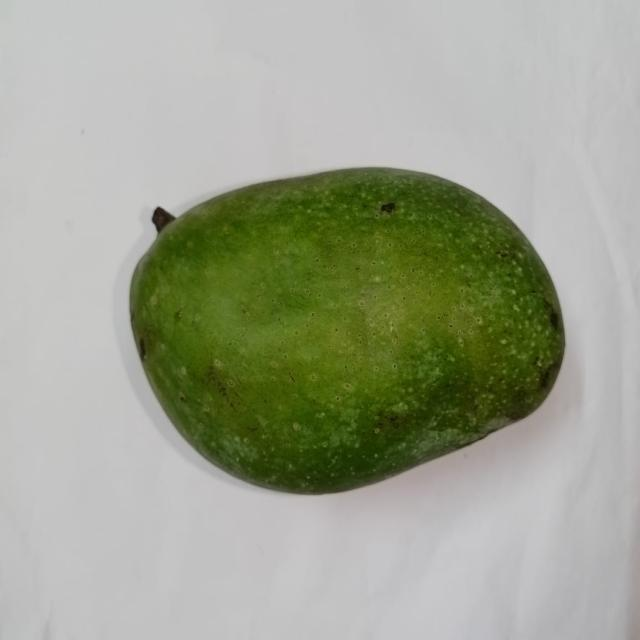rotten_mango: (128, 165, 567, 491)
